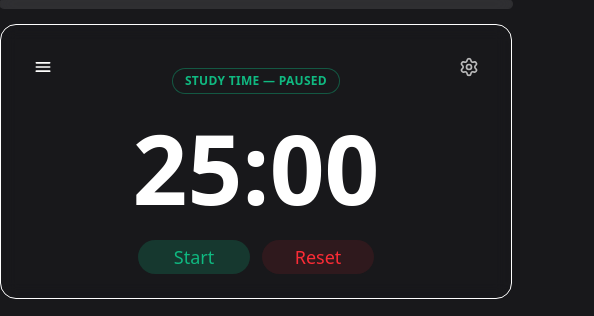
Test: Timer › switches tab when clicking tab buttons
# Open the sidebar first
Click the button titled "Show session tabs" at (43, 67), box [25, 49, 61, 85]
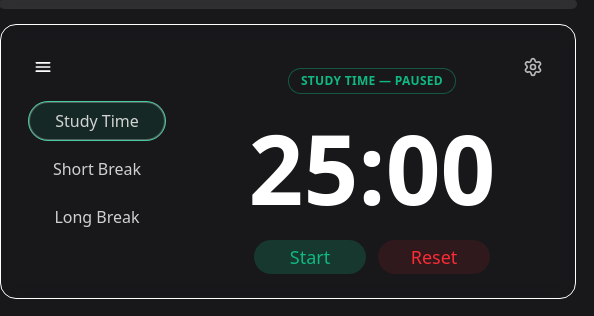
# Click Short Break tab
Click the tab "Short Break" at (97, 169), box [28, 149, 166, 189]
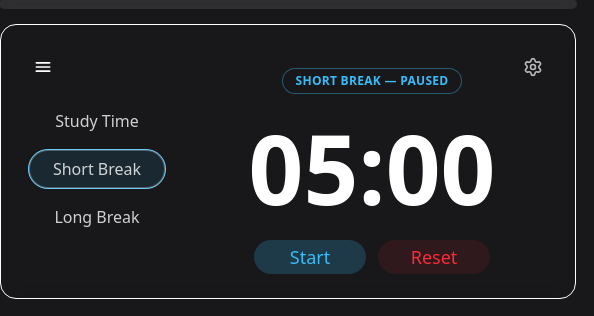
expect the text "Short Break — Paused" is shown: met, box [284, 69, 460, 93]
